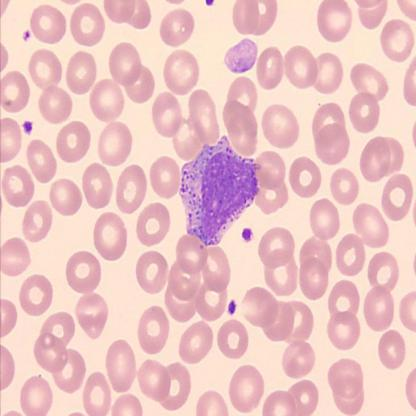Myelocyte: (183, 137, 259, 244)
